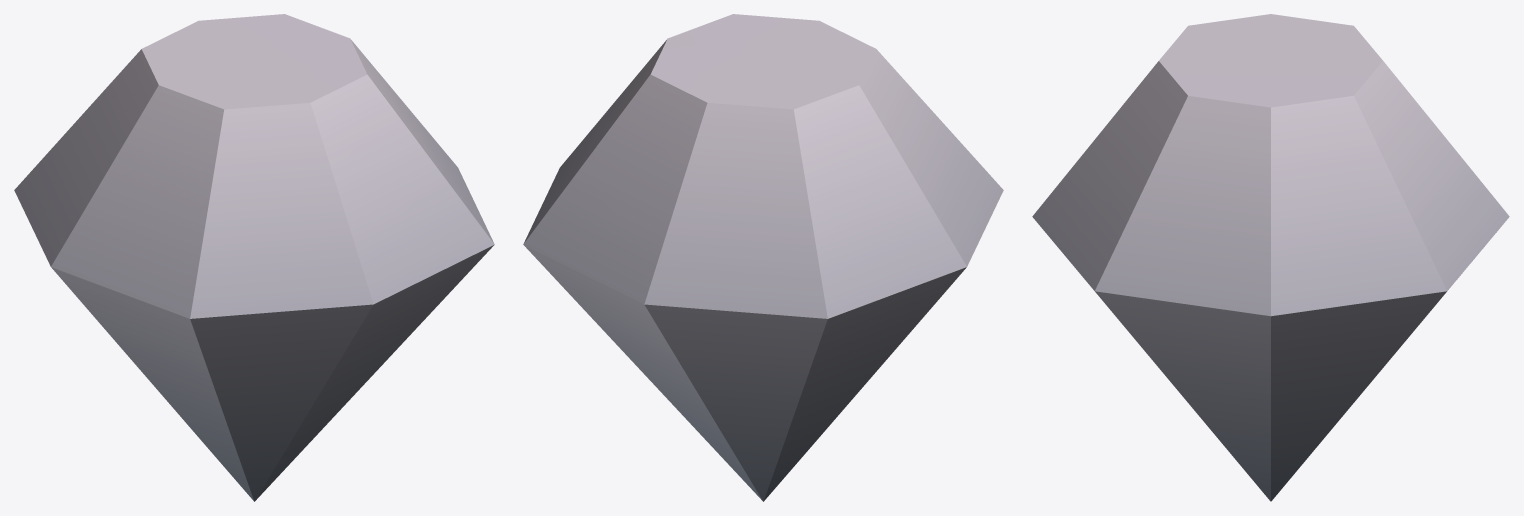
The model's file is Diamondo.fbx.
The picture shows the model from 3 angles, left to right: view 1: azimuth 30°, elevation 25°; view 2: azimuth 150°, elevation 25°; view 3: azimuth 270°, elevation 25°; orthographic projection.
Visible parts, largest first — view 1: Diamondo; view 2: Diamondo; view 3: Diamondo.
Part boxes in pixels (x1,y1,x2,y2): Diamondo: (14,14,494,501); Diamondo: (523,14,1003,501); Diamondo: (1032,14,1509,501).
Bounding box in the file's own units: 241 × 249 × 244.
